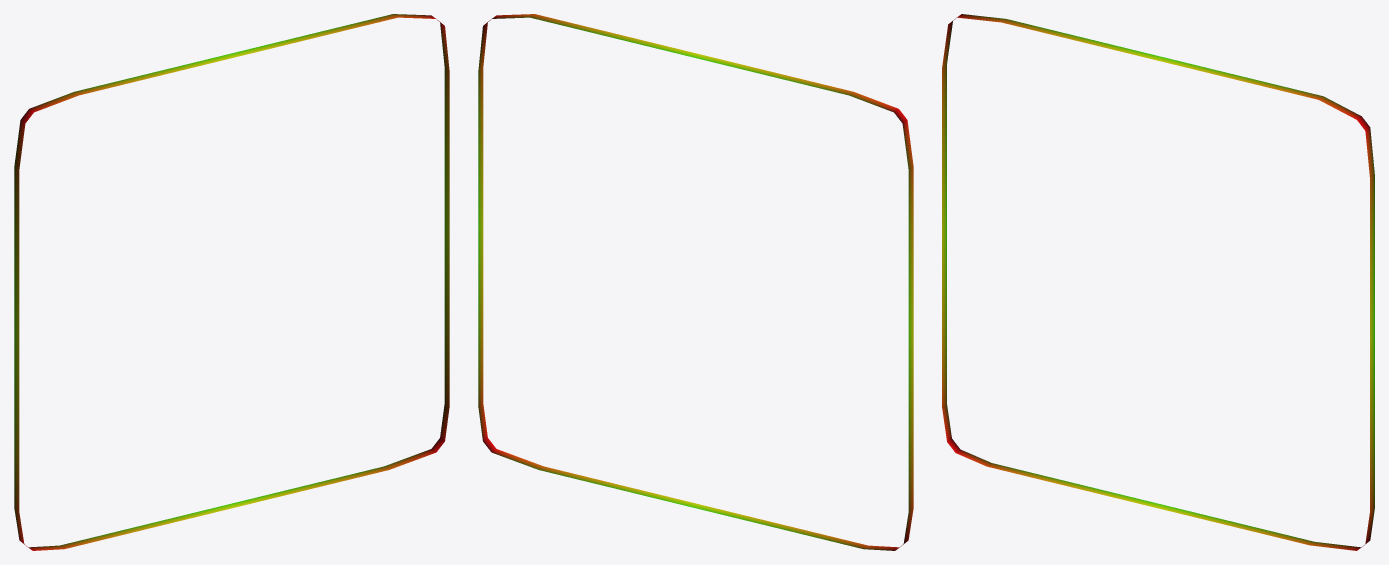
File: SM_LightShaft.FBX
The picture shows the model from 3 angles, left to right: view 1: azimuth 30°, elevation 25°; view 2: azimuth 150°, elevation 25°; view 3: azimuth 330°, elevation 25°; orthographic projection.
Visible parts, largest first — view 1: SM_LightShaft; view 2: SM_LightShaft; view 3: SM_LightShaft.
Boxes of the visible parts, bbox=[...] form: SM_LightShaft: bbox=[14, 14, 449, 550]; SM_LightShaft: bbox=[478, 14, 913, 550]; SM_LightShaft: bbox=[942, 14, 1374, 550].
Bounding box in the file's own units: 50 × 1 × 50.
